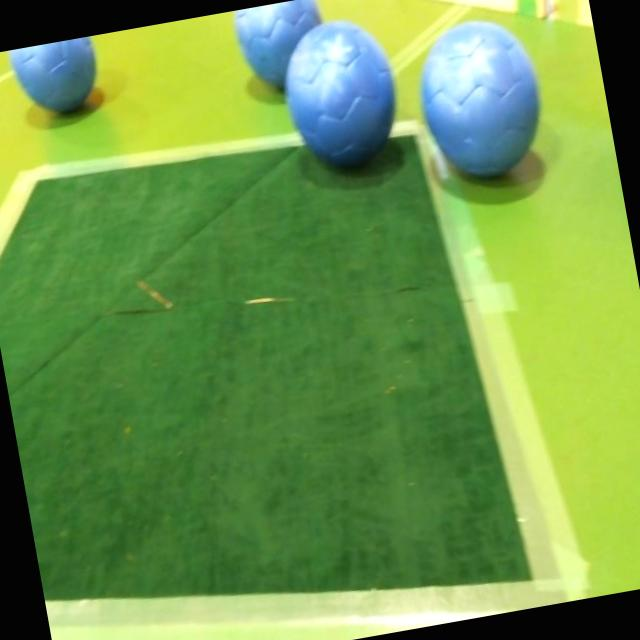blue_ball: (413, 17, 550, 184), (276, 11, 410, 177), (228, 0, 332, 95), (11, 36, 105, 122)
